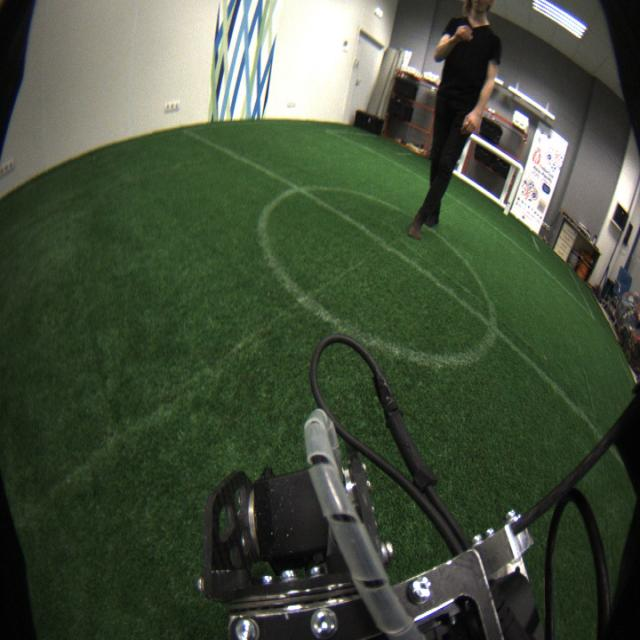goalpost: (502, 165, 527, 217)
